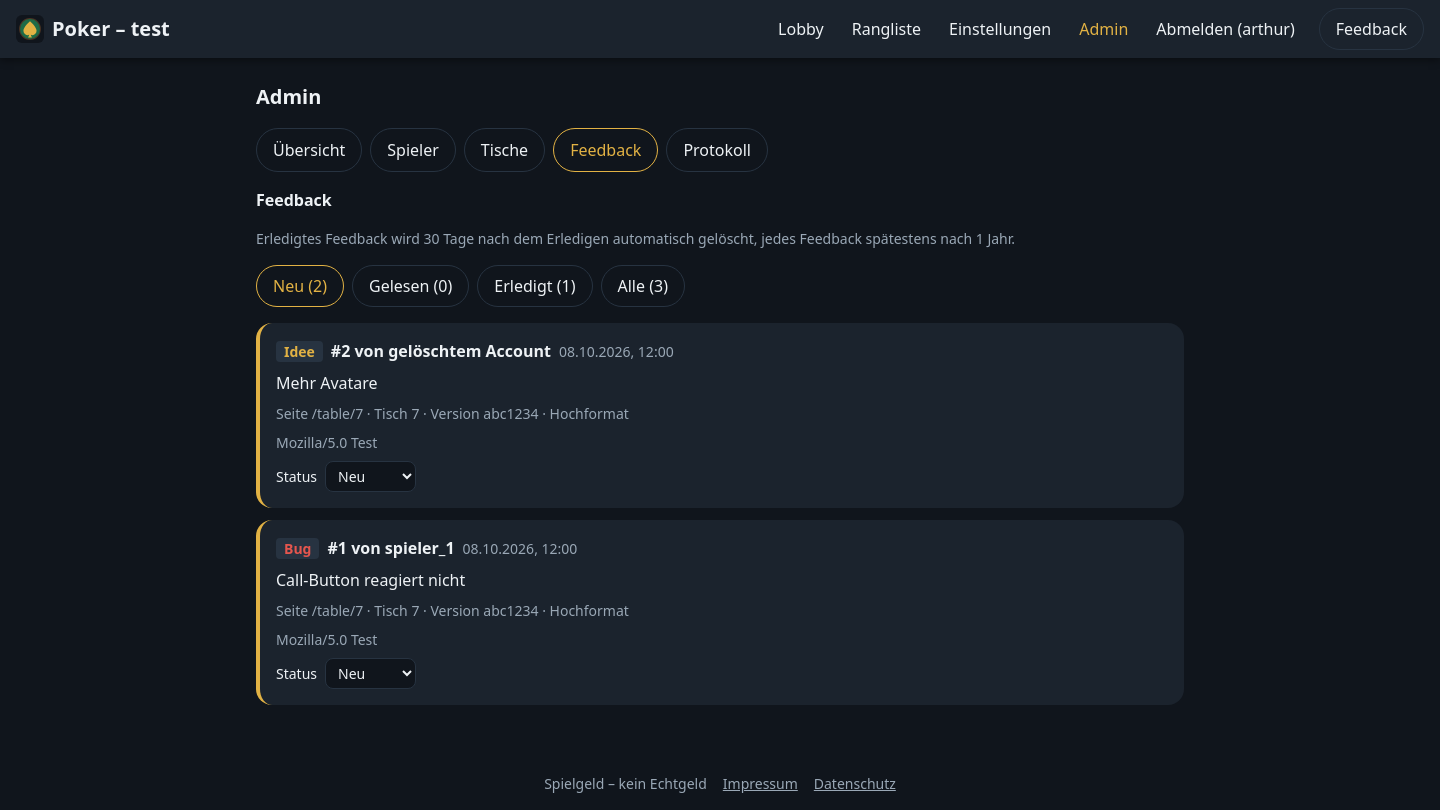
Test: /admin/feedback › filtert nach Status
Click the button "Erledigt (1)" at [535, 286], box [477,265,592,307]
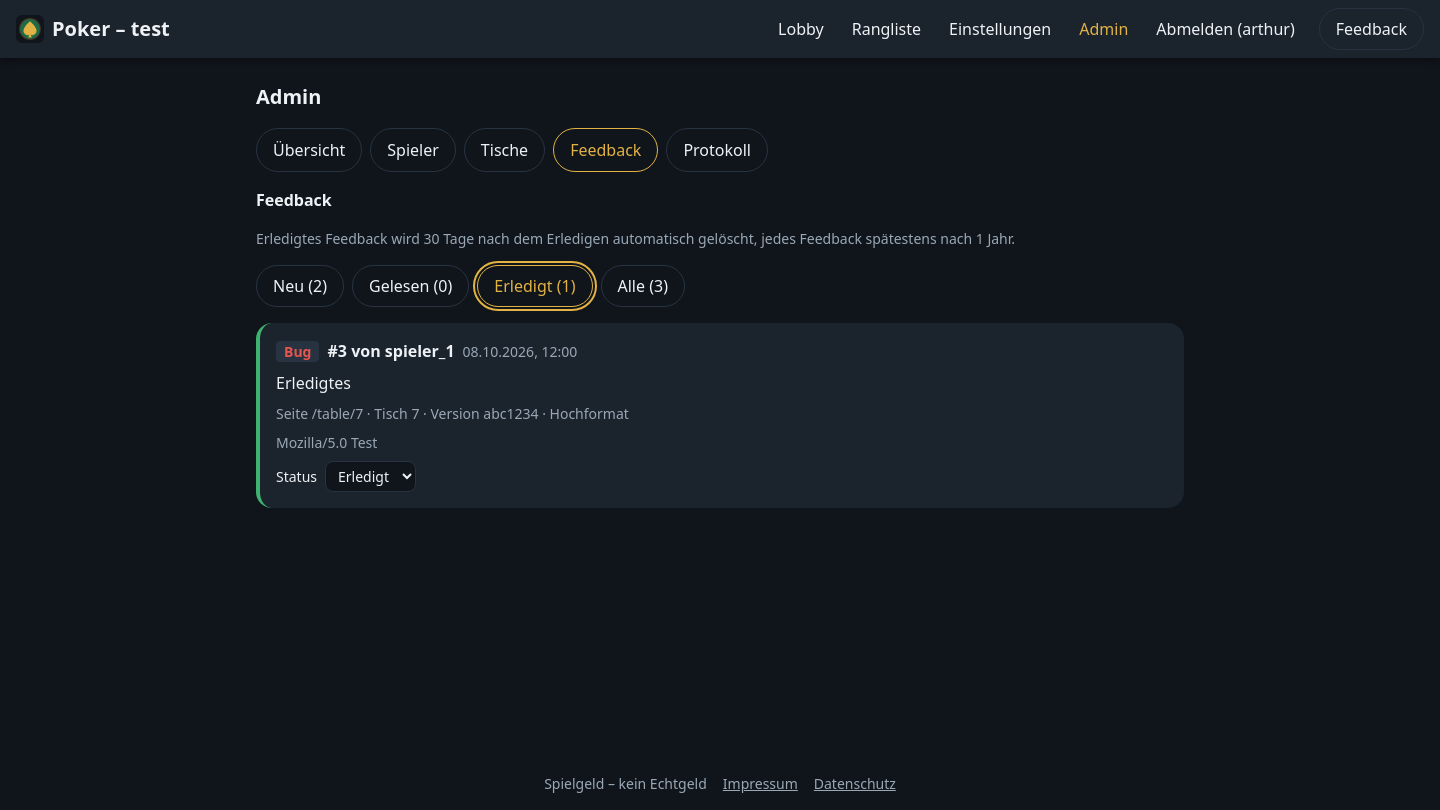
Result: the text "Erledigtes" is shown at [276,372,351,394]
Click the button "Alle (3)" at [643, 286], box [600,265,685,307]
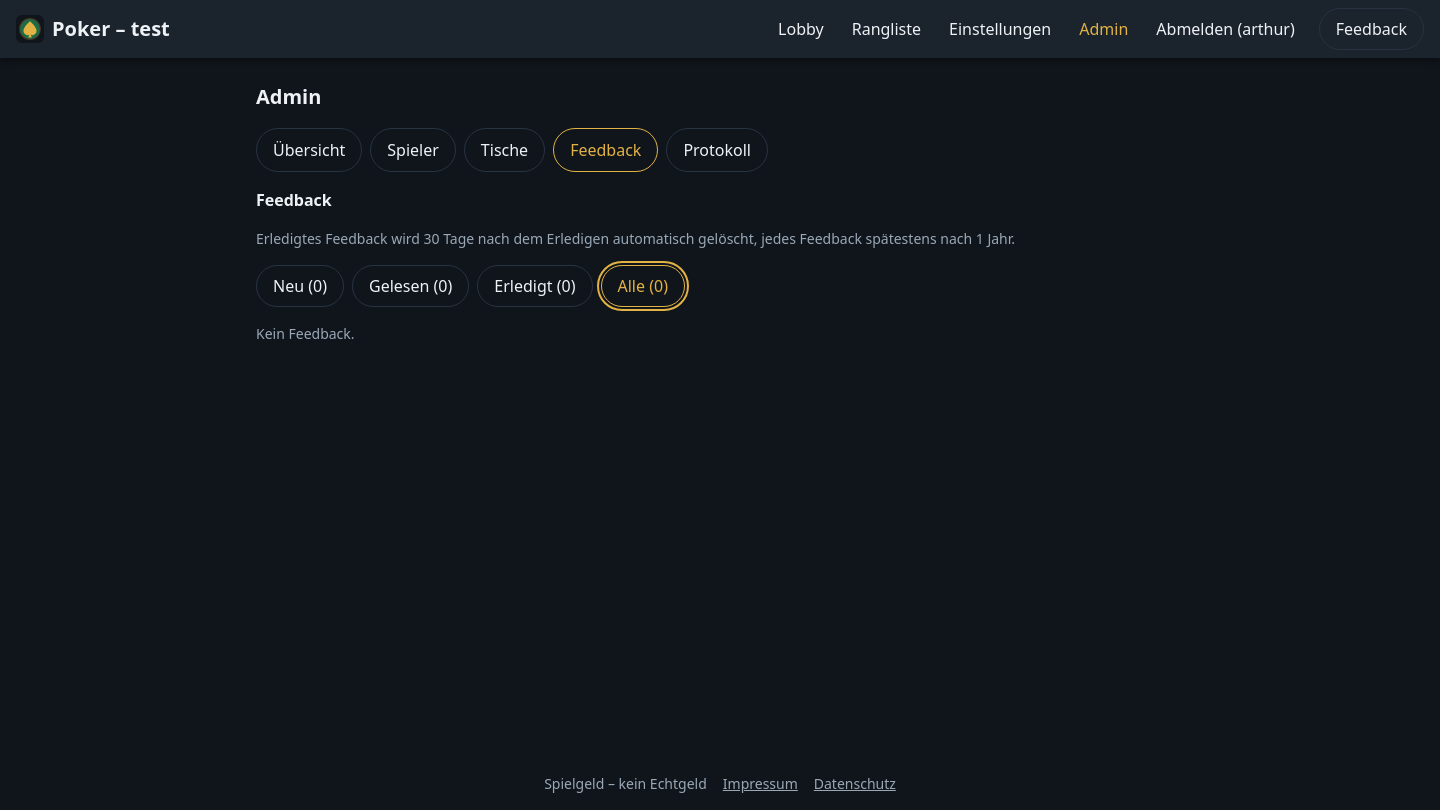
Result: the text "Kein Feedback." is shown at [256,324,355,343]
